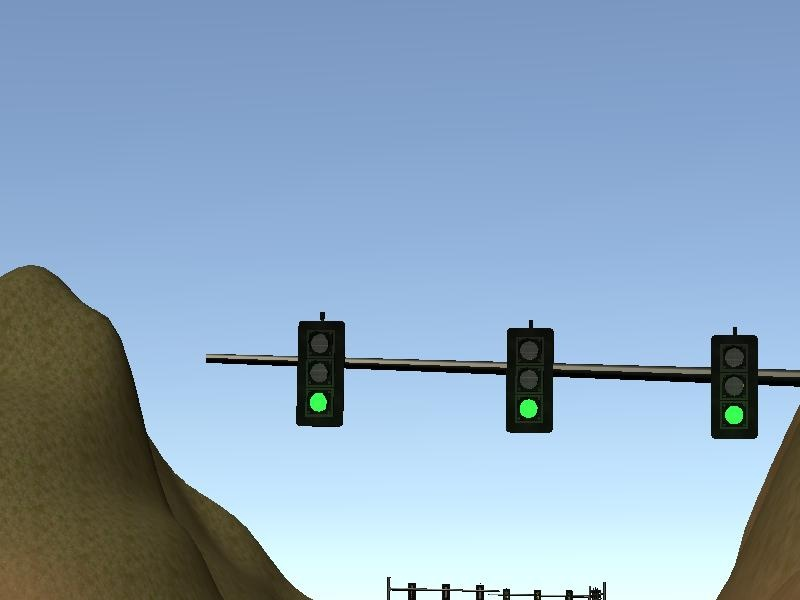GREEN: (296, 320, 346, 428), (505, 328, 555, 436), (708, 332, 758, 440)
